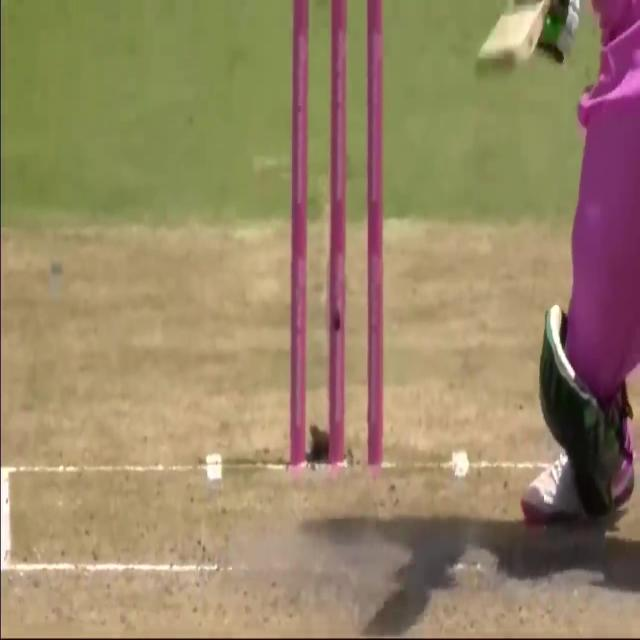Ball: (463, 0, 640, 628)
